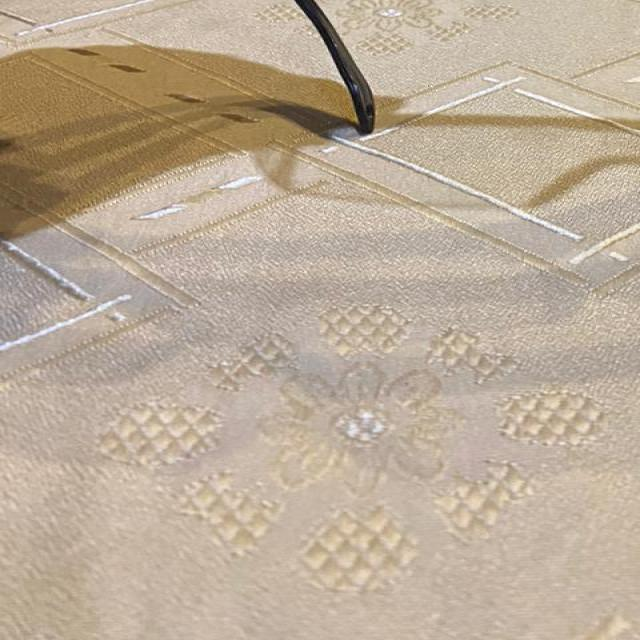Goggles: (173, 0, 640, 145)
